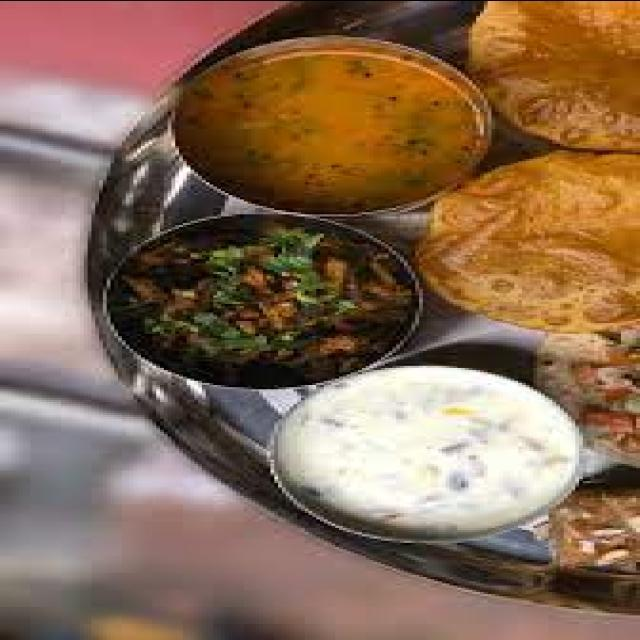curd: (262, 362, 588, 544)
dal: (181, 31, 501, 218)
